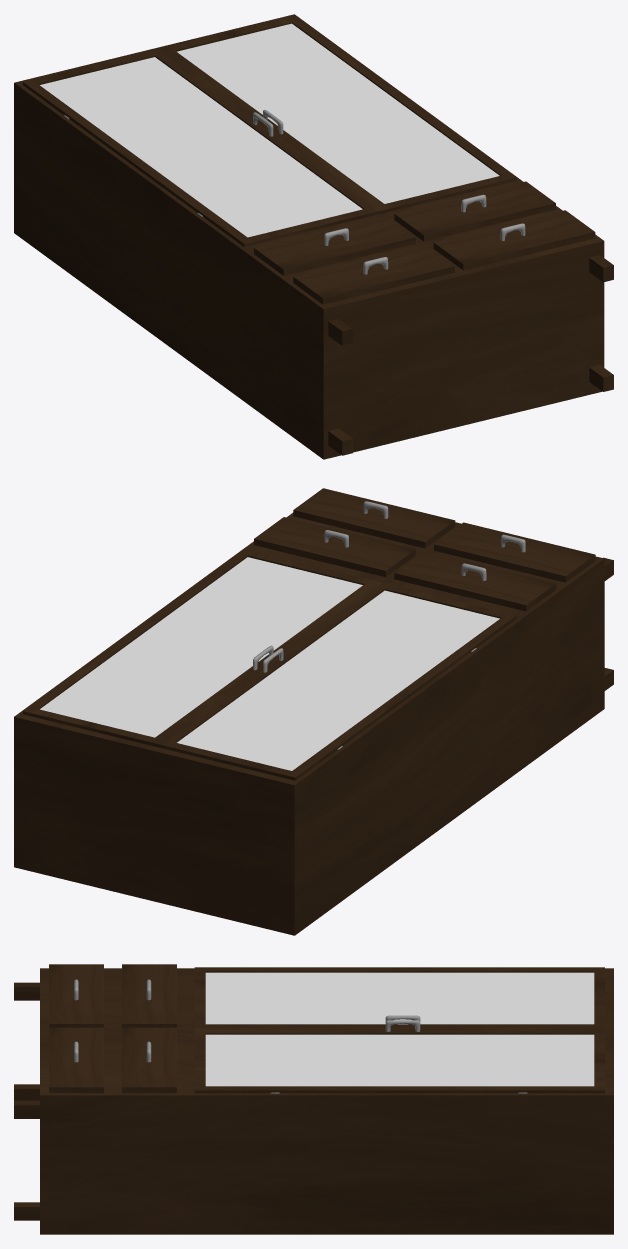
The model's file is Vitrina.fbx.
3 views of the same model, one above another, from view 1: azimuth 30°, elevation 25°; view 2: azimuth 150°, elevation 25°; view 3: azimuth 270°, elevation 25° (orthographic). The views are drawn at different scales.
Visible parts, largest first — view 1: Cuerpo, PuertaCristal1.001, PuertaCristal2.001, Cajon4, Cajon2, Cajon1, Cajon3; view 2: Cuerpo, PuertaCristal1.001, PuertaCristal2.001, Cajon1, Cajon4, Cajon2, Cajon3; view 3: Cuerpo, PuertaCristal2.001, PuertaCristal1.001, Cajon2, Cajon4, Cajon1, Cajon3.
Part boxes in pixels (x1,y1,x2,y2): Cuerpo: [14, 14, 613, 459]; PuertaCristal1.001: [23, 49, 380, 246]; PuertaCristal2.001: [159, 15, 516, 213]; Cajon4: [433, 210, 595, 270]; Cajon2: [394, 181, 555, 241]; Cajon1: [254, 215, 415, 275]; Cajon3: [293, 244, 454, 304]; Cuerpo: [14, 512, 613, 935]; PuertaCristal1.001: [159, 582, 516, 780]; PuertaCristal2.001: [23, 549, 380, 747]; Cajon1: [394, 551, 556, 611]; Cajon4: [293, 488, 455, 548]; Cajon2: [254, 517, 415, 577]; Cajon3: [434, 522, 595, 582]; Cuerpo: [14, 968, 613, 1234]; PuertaCristal2.001: [194, 1020, 604, 1093]; PuertaCristal1.001: [194, 967, 604, 1028]; Cajon2: [122, 1027, 176, 1093]; Cajon4: [49, 1027, 103, 1093]; Cajon1: [122, 964, 176, 1027]; Cajon3: [49, 964, 103, 1027].
Bounding box in the file's own units: 118 × 67.77 × 236.
